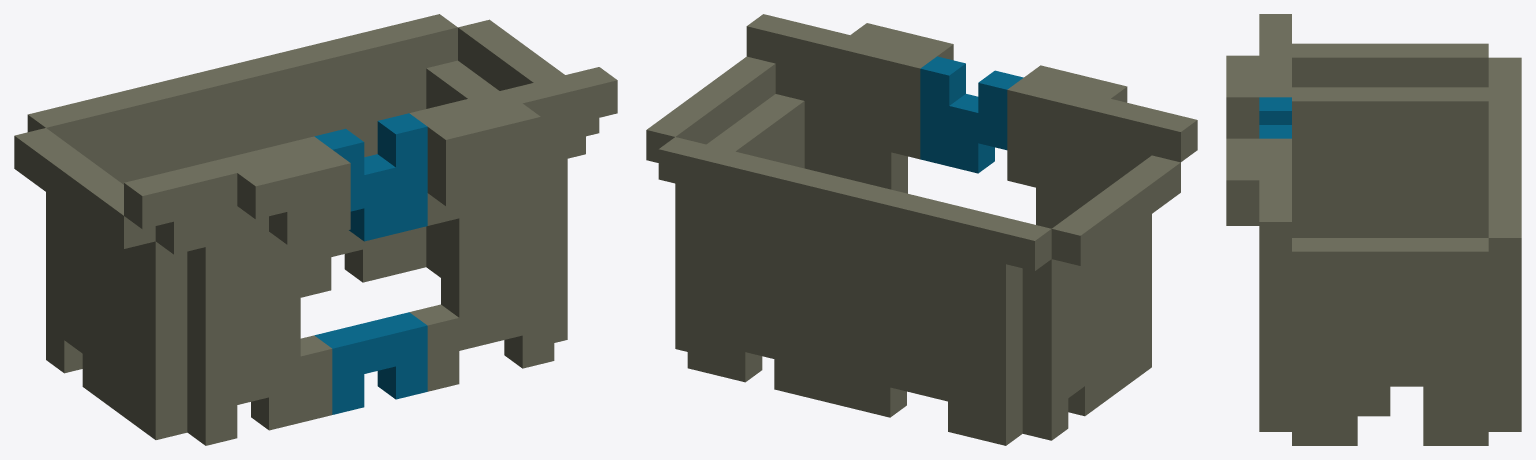
File: accessories_clothes_rippedcloths.glb
3 renders of one model, left to right at view 1: azimuth 30°, elevation 25°; view 2: azimuth 150°, elevation 25°; view 3: azimuth 270°, elevation 25°, orthographic. The views are drawn at different scales.
Parts seen in each view (by area): view 1: model_0; view 2: model_0; view 3: model_0.
Boxes of the visible parts, x1=… form: model_0: x1=14, y1=14, x2=617, y2=445; model_0: x1=646, y1=14, x2=1197, y2=445; model_0: x1=1226, y1=14, x2=1521, y2=445.
Bounding box in the file's own units: 15 × 8 × 9.
